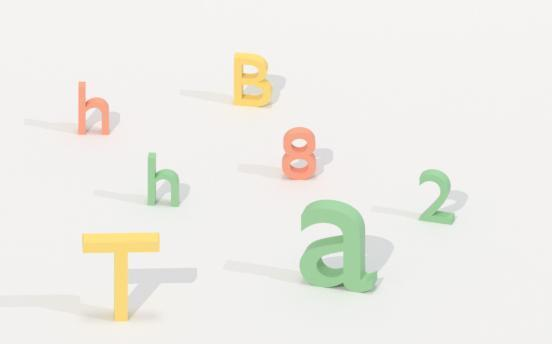chu_khoi: (300, 200, 377, 291), (82, 232, 159, 320), (233, 53, 271, 106), (147, 152, 180, 206), (78, 81, 109, 134)
so_khoi: (419, 169, 454, 223), (282, 127, 316, 179)
